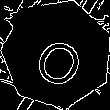O_NE: (25, 21, 89, 87)
